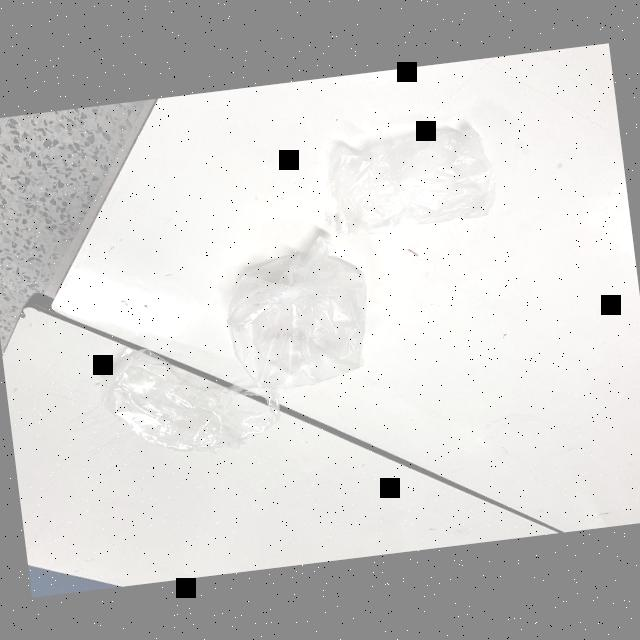plastic_bag: (77, 330, 290, 480), (218, 228, 376, 400)
scrap_plastic: (303, 116, 509, 255)
